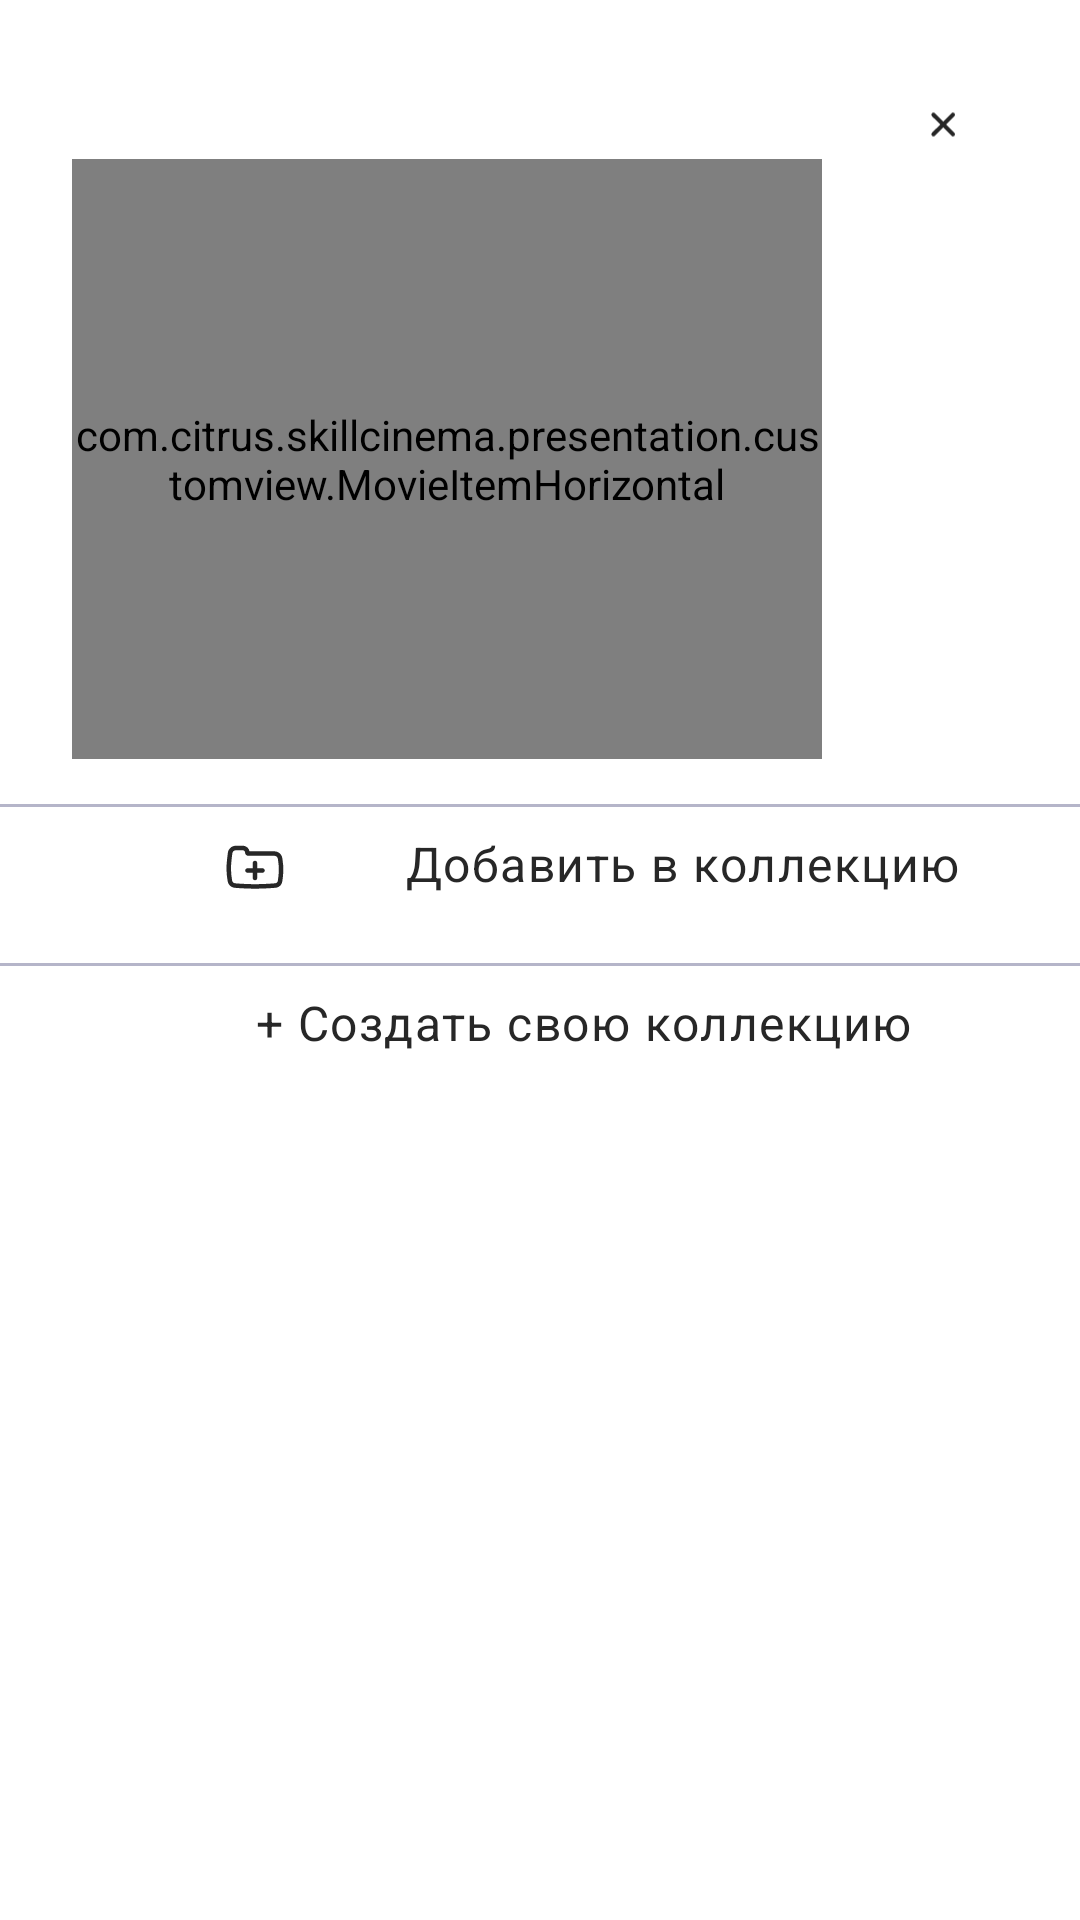

Named icons in this screenshot (1080×1920) and their bounding boxes, detection(x1, y1, x2, y2):
Закрыть: detection(931, 112, 955, 137)
